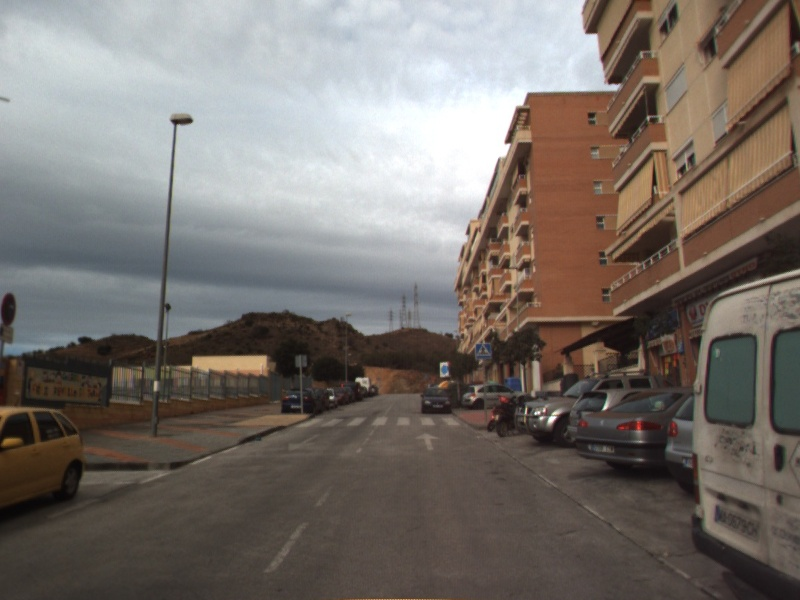STRAIGHT: (413, 430, 442, 452)
